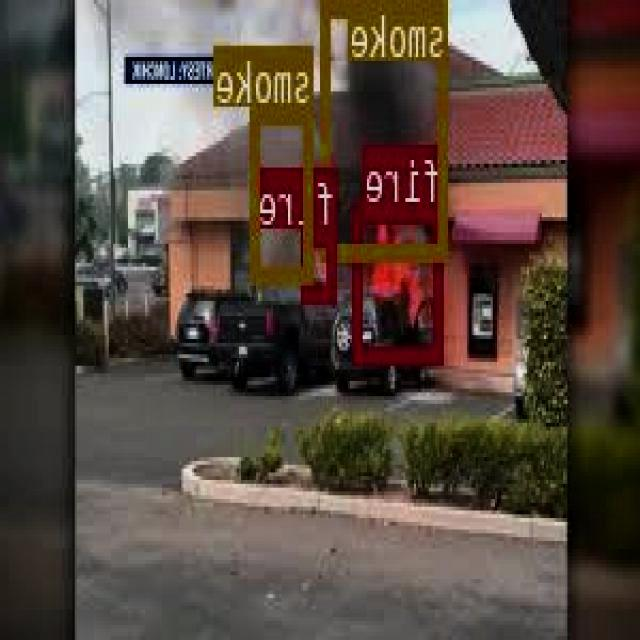fire: (354, 202, 445, 360), (304, 227, 338, 300)
smoke: (323, 0, 449, 259), (252, 104, 316, 282)
